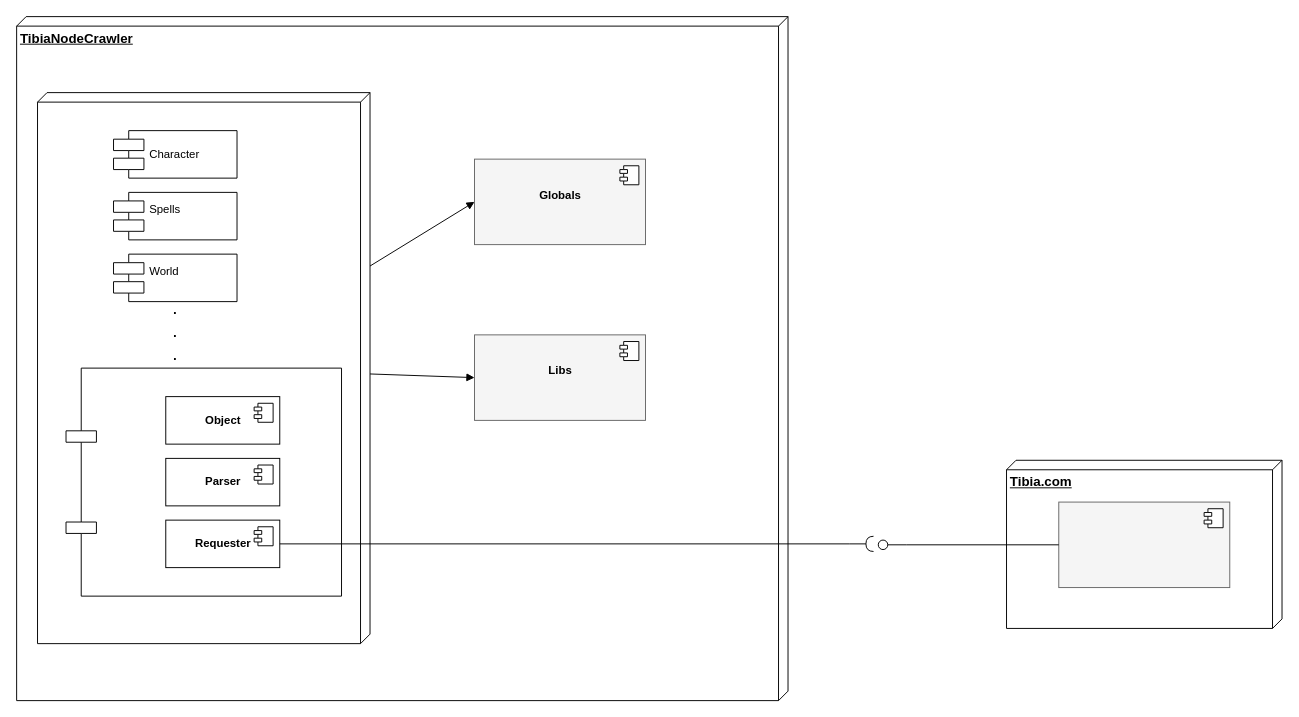
The diagram is 1299 pixels wide and 717 high, and some of its shapes have lost their labels. The box of each missing label's shape, as (x1, y1, x2, y2) in pixels:
Highscores: (65, 367, 342, 596)
Modules: (37, 92, 370, 644)
WebComponent: (1058, 501, 1230, 588)
